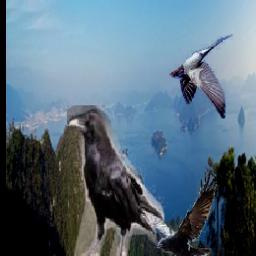Crow: (68, 106, 165, 256), (130, 167, 218, 256)
Swallow: (170, 34, 234, 120)
